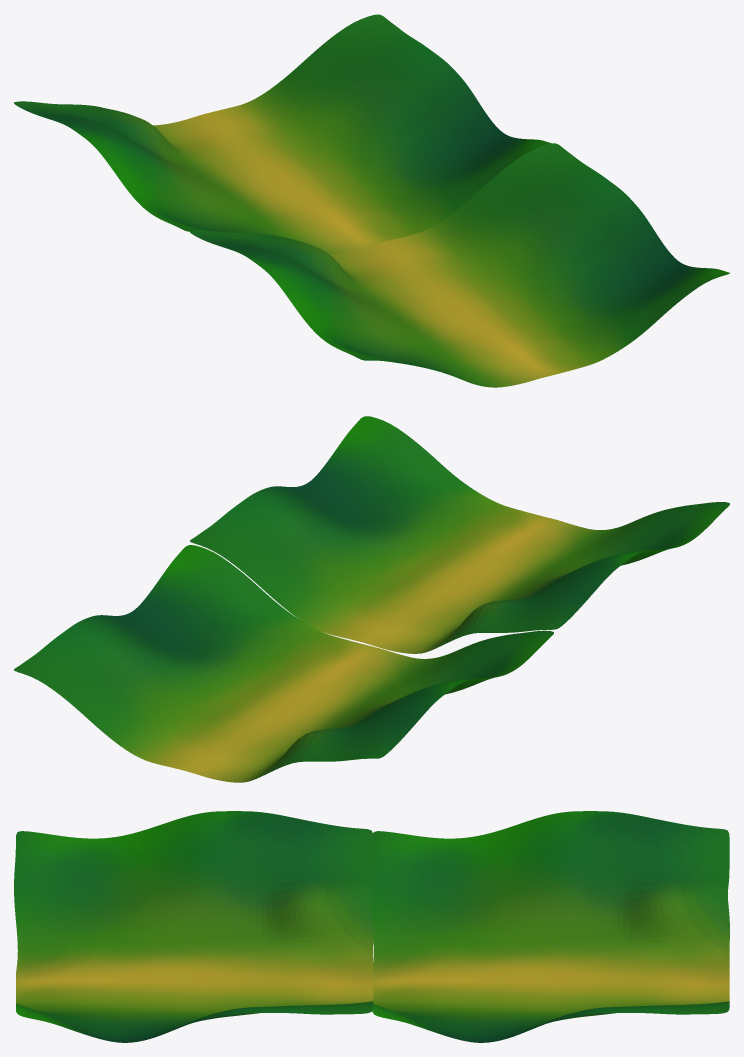
File: Dirt.fbx
3 views of the same model, one above another, from view 1: azimuth 30°, elevation 25°; view 2: azimuth 150°, elevation 25°; view 3: azimuth 270°, elevation 25° (orthographic).
Parts seen in each view (by area): view 1: Plane.013; view 2: Plane.013; view 3: Plane.013.
Part boxes in pixels (bbox=[...]): Plane.013: bbox=[14, 14, 729, 387]; Plane.013: bbox=[14, 416, 729, 782]; Plane.013: bbox=[14, 811, 729, 1042].
Bounding box in the file's own units: 4831 × 1003 × 8013.
1 material, 1 textured.
